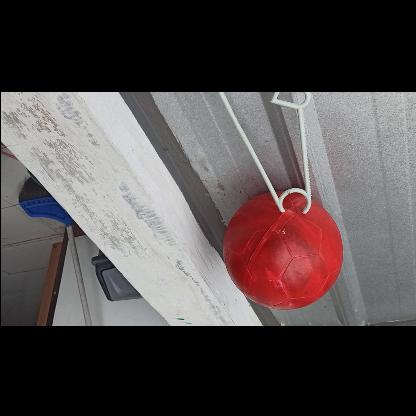red_ball: (224, 189, 344, 309)
